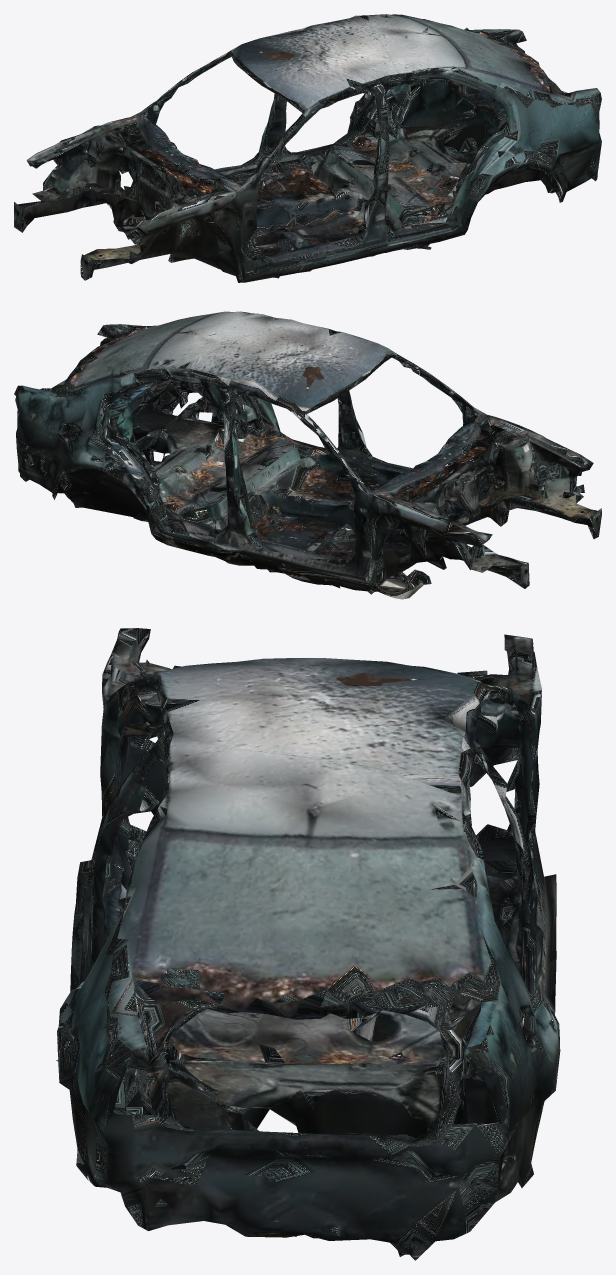
The model's file is wreck-f.glb.
The picture shows the model from 3 angles, top to bottom: view 1: azimuth 30°, elevation 25°; view 2: azimuth 150°, elevation 25°; view 3: azimuth 270°, elevation 25°; orthographic projection. The views are drawn at different scales.
Parts seen in each view (by area): view 1: scan; view 2: scan; view 3: scan.
Boxes of the visible parts, left/top/right/bottom form: scan: left=14, top=14, right=601, bottom=282; scan: left=14, top=311, right=601, bottom=599; scan: left=56, top=628, right=560, bottom=1260.
Bounding box in the file's own units: 27.14 × 8.7 × 11.59.
1 material, 1 textured.
